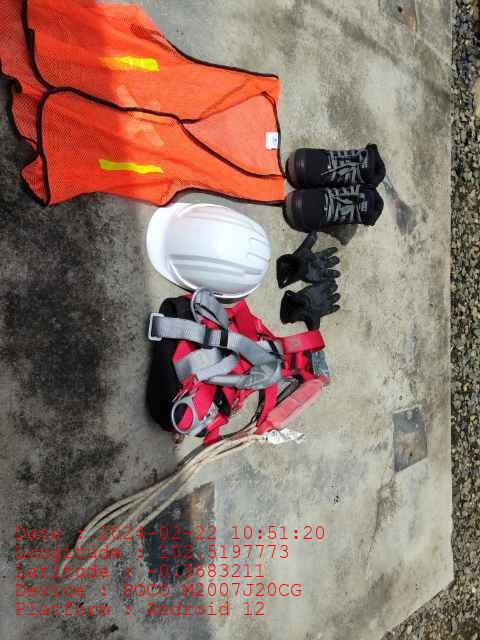HELM: (146, 198, 263, 295)
SARUNG TANGAN: (277, 234, 343, 332)
SEPATU: (285, 148, 385, 234)
